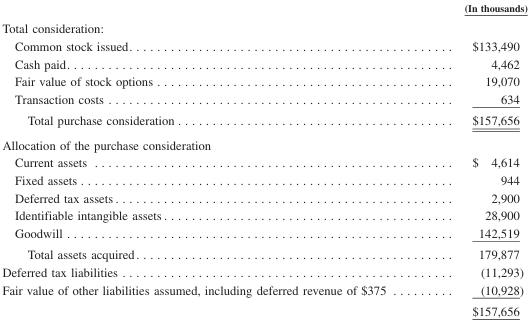table: (1, 1, 526, 317)
table column: (1, 1, 424, 317), (424, 1, 526, 317)
table column header: (1, 1, 526, 17)
table projected row header: (1, 132, 526, 153), (1, 17, 526, 36)
table row: (1, 109, 526, 132), (1, 132, 526, 153), (1, 89, 526, 109), (1, 223, 526, 243), (1, 280, 526, 300), (1, 17, 526, 36), (1, 243, 526, 262), (1, 36, 526, 54), (1, 54, 526, 72), (1, 170, 526, 188), (1, 188, 526, 206), (1, 262, 526, 280), (1, 72, 526, 89), (1, 153, 526, 170), (1, 206, 526, 223), (1, 300, 526, 317), (1, 1, 526, 17)
